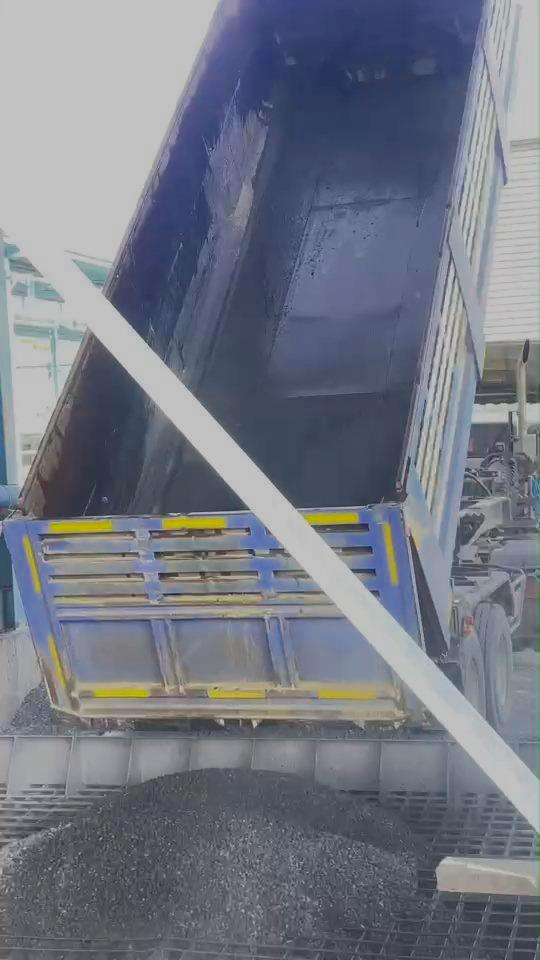gravel: (0, 770, 422, 941), (0, 684, 79, 734)
